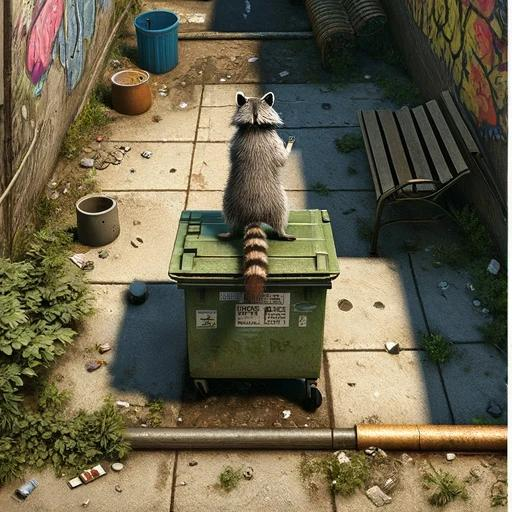raccoon: (213, 83, 298, 311)
